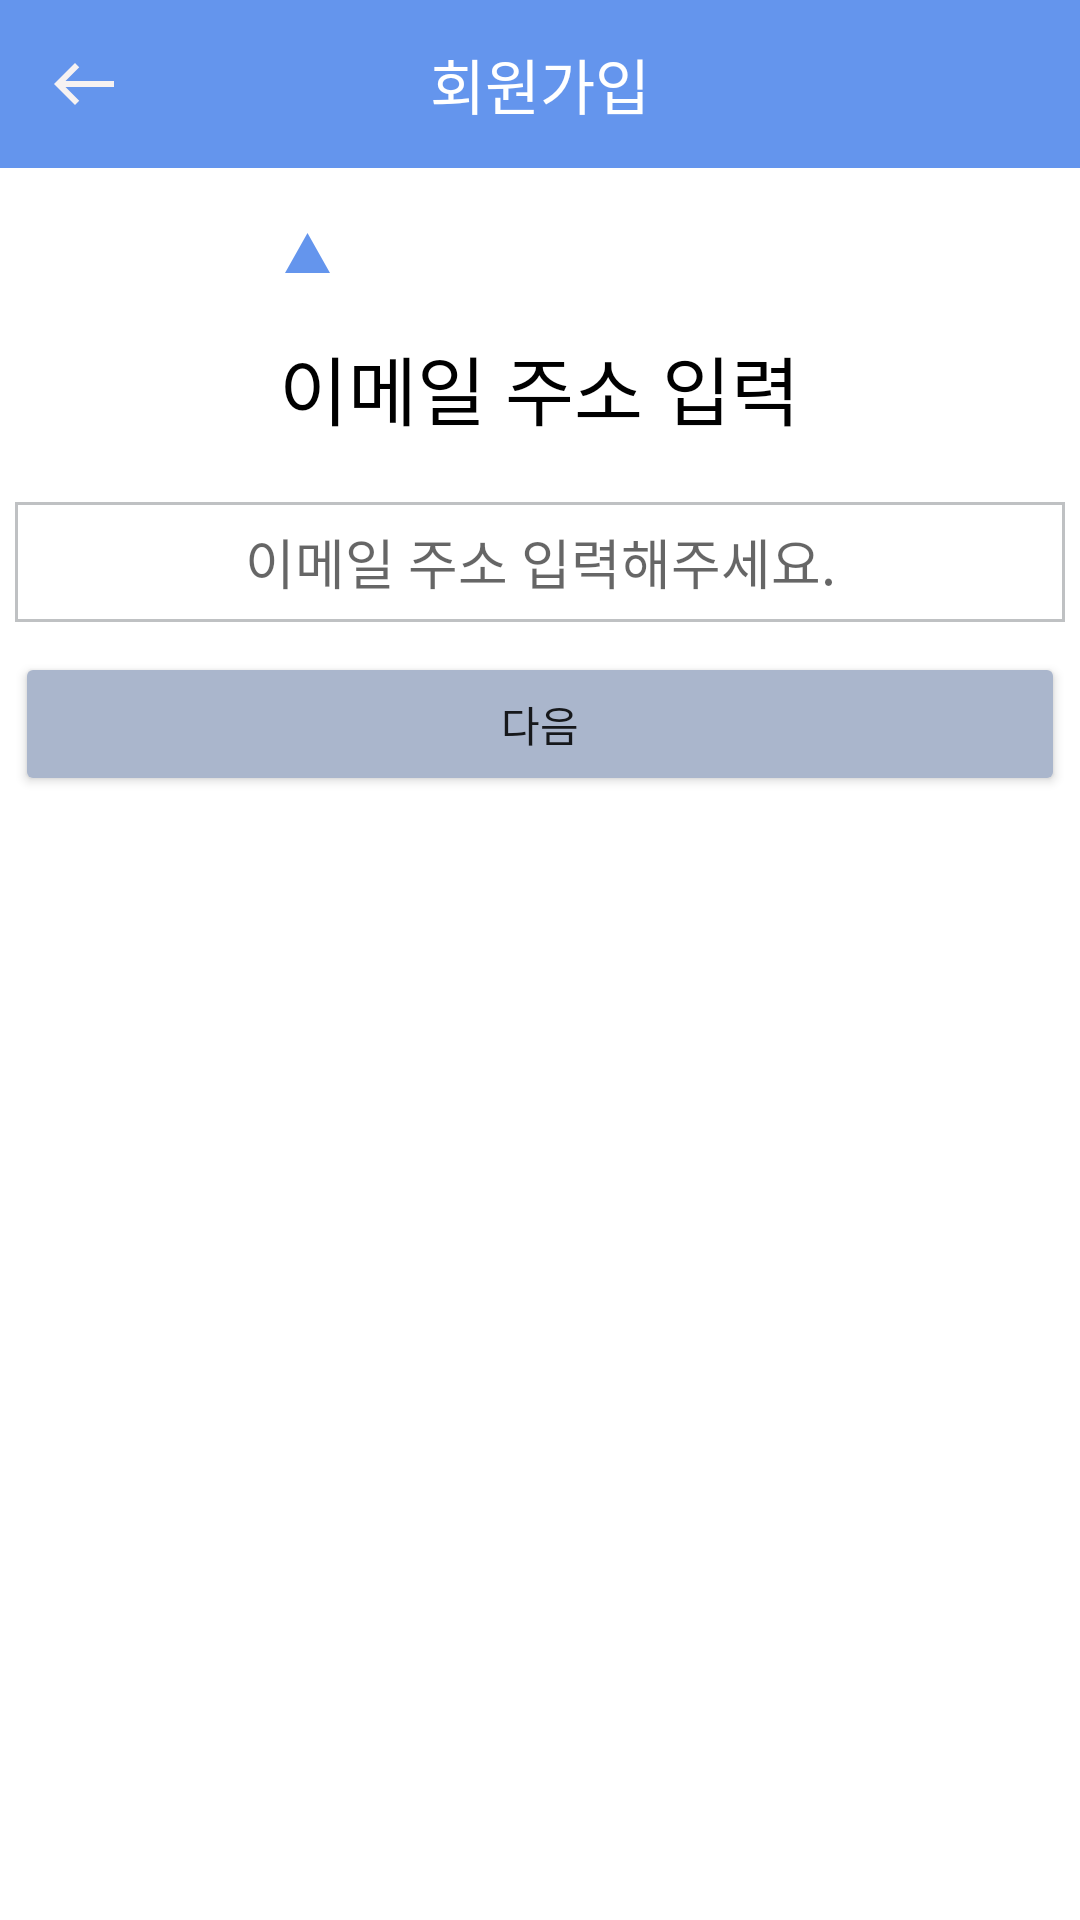

Named icons in this screenshot (1080×1920) and their centers, (x,y):
west: (84,84)
